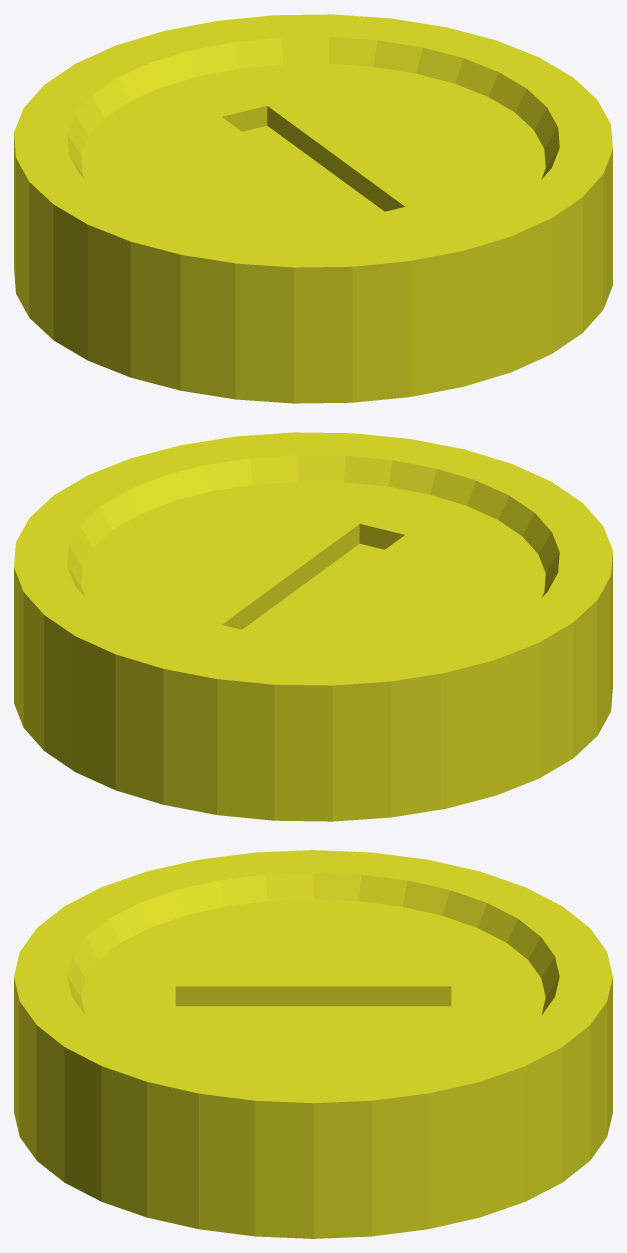
File: Coin.FBX
3 views of the same model, one above another, from view 1: azimuth 30°, elevation 25°; view 2: azimuth 150°, elevation 25°; view 3: azimuth 270°, elevation 25° (orthographic).
Visible parts, largest first — view 1: Coin; view 2: Coin; view 3: Coin.
Part boxes in pixels (bbox=[...]): Coin: bbox=[14, 14, 612, 403]; Coin: bbox=[14, 432, 612, 821]; Coin: bbox=[14, 850, 612, 1238].
Size of the model in its own units: 200 by 50 by 200.
